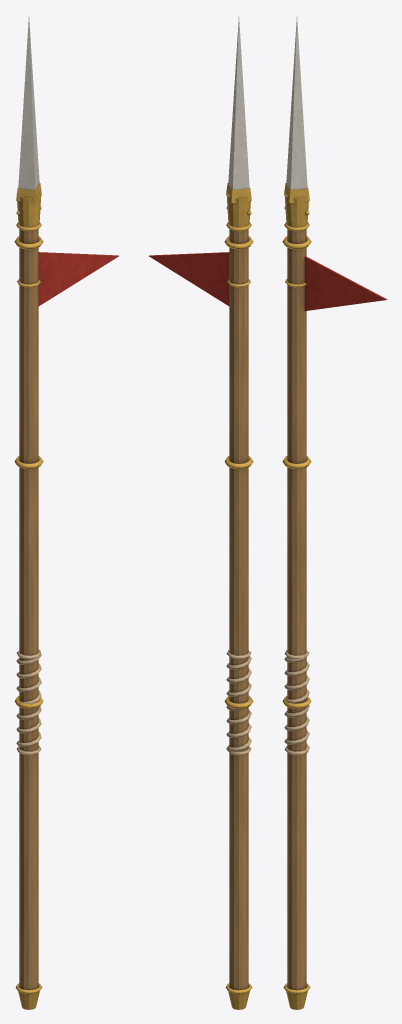
The model's file is 02_desert_spear.fbx.
3 views of the same model, side by side, from view 1: azimuth 30°, elevation 25°; view 2: azimuth 150°, elevation 25°; view 3: azimuth 330°, elevation 25° (orthographic).
Visible parts, largest first — view 1: Weapon; view 2: Weapon; view 3: Weapon.
Part boxes in pixels (bbox=[...]): Weapon: bbox=[14, 17, 118, 1009]; Weapon: bbox=[149, 17, 253, 1009]; Weapon: bbox=[282, 17, 386, 1009].
Size of the model in its own units: 24.34 by 224 by 6.13.
Materials: 1 (1 with a texture image).
